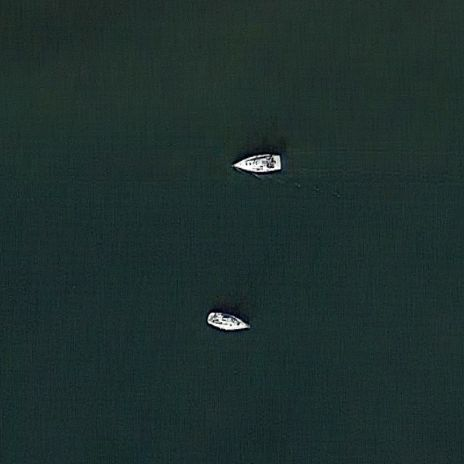boat: (230, 149, 283, 177), (205, 309, 249, 334)
